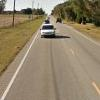Car: (36, 15, 56, 44)
